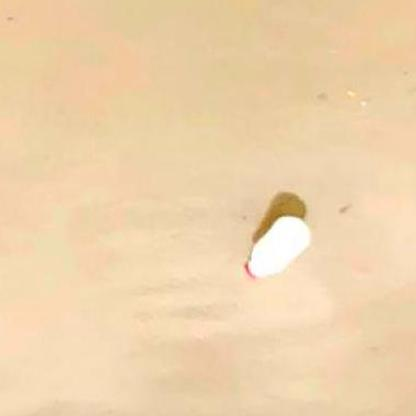plastic bottle: (245, 215, 310, 278)
